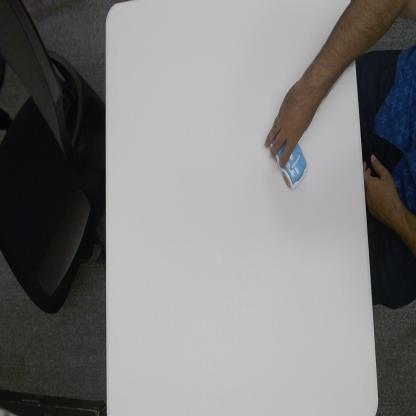Arm: (306, 0, 353, 103)
Car: (269, 136, 309, 190)
Hand: (264, 76, 315, 168)
